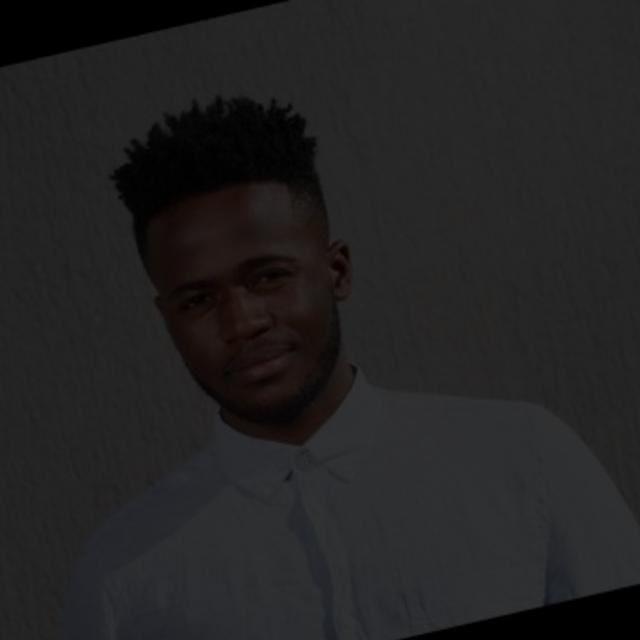Natural: (123, 97, 334, 496)
